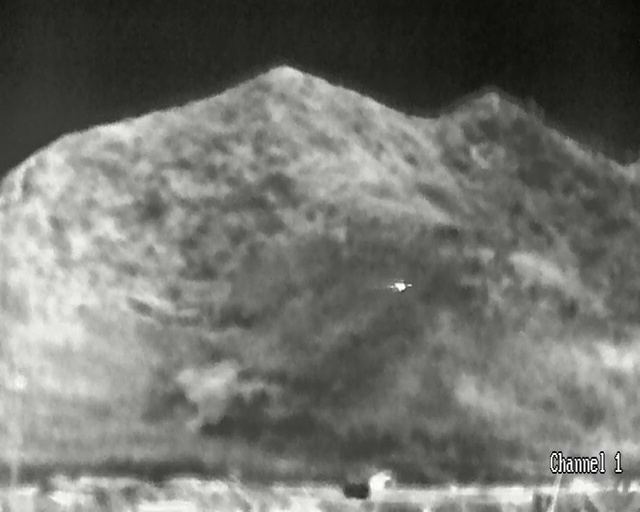uav: (387, 282, 411, 292)
